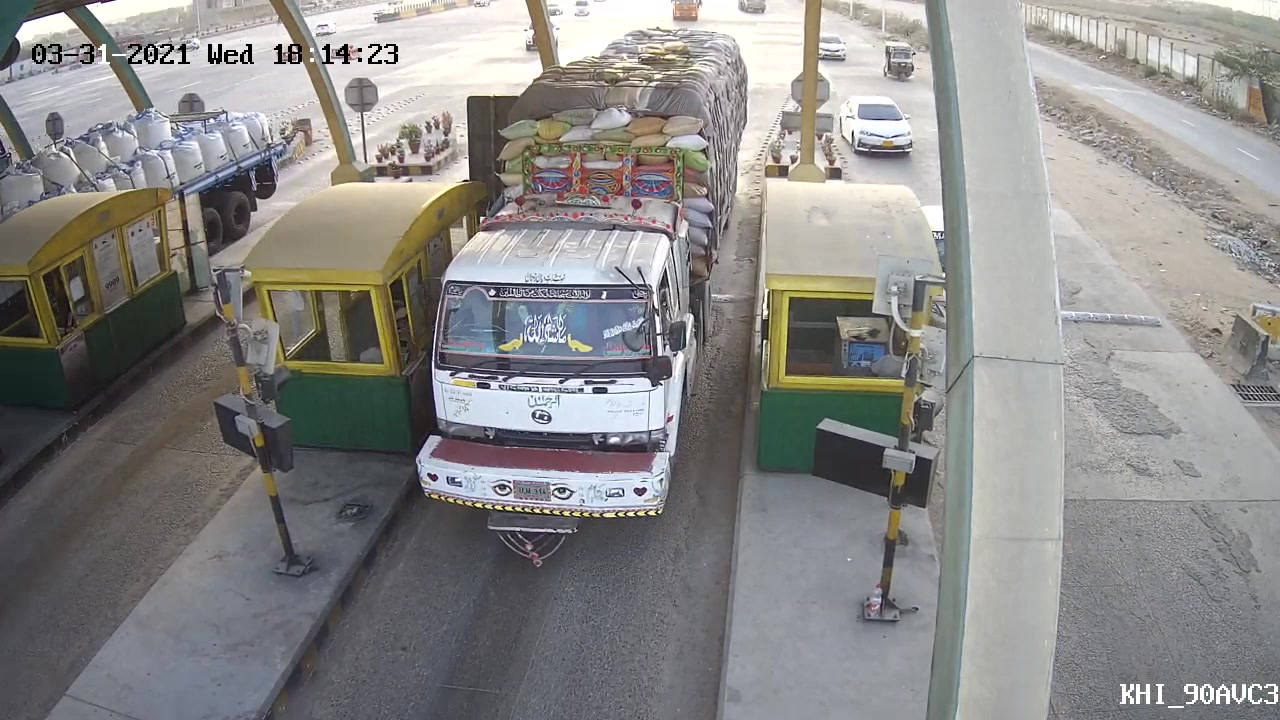F6: (398, 203, 723, 575)
